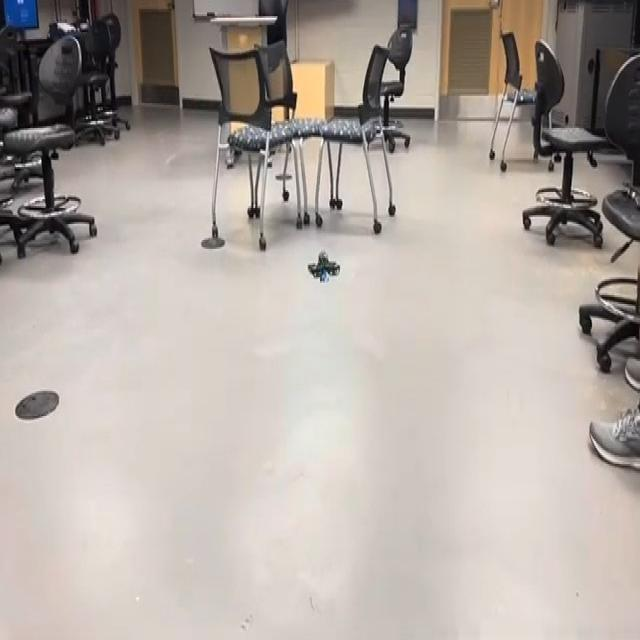drone: (298, 233, 349, 307)
